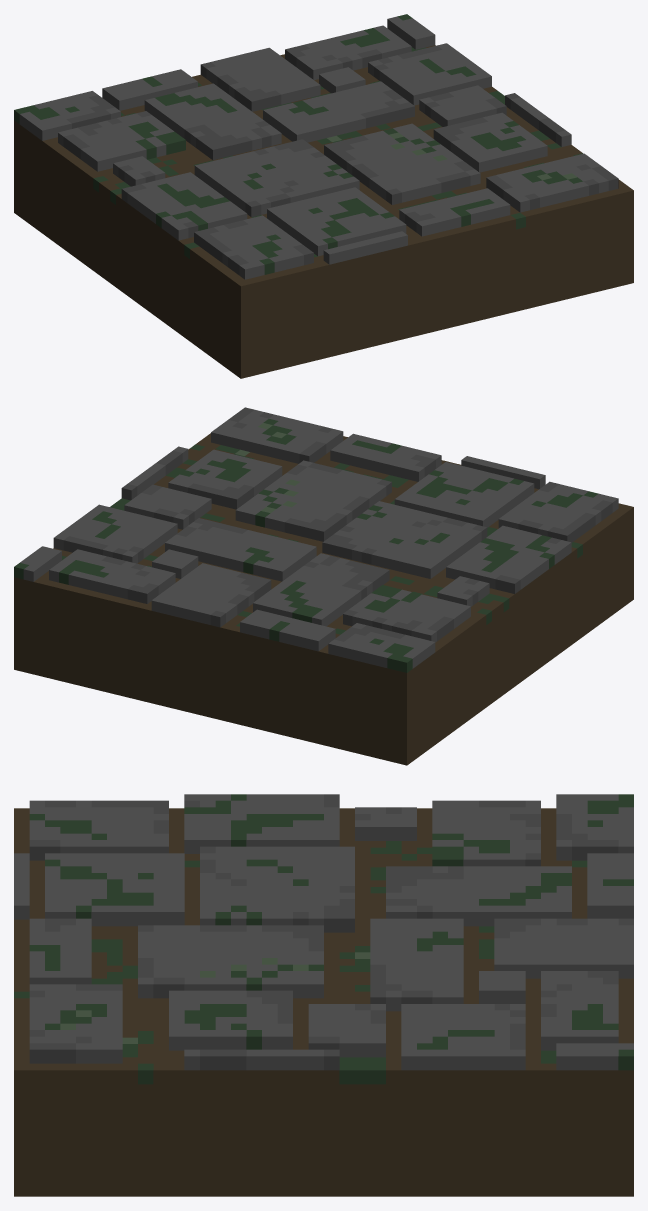
The model's file is FLOORTILE2.obj.
3 views of the same model, one above another, from view 1: azimuth 30°, elevation 25°; view 2: azimuth 150°, elevation 25°; view 3: azimuth 270°, elevation 25° (orthographic). The views are drawn at different scales.
Size of the model in its own units: 4 by 1 by 4.
1 material, 1 textured.
